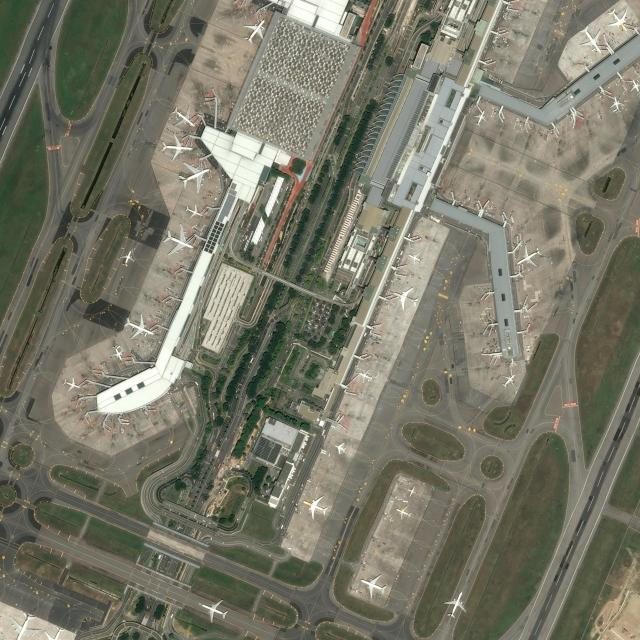1: (44, 624, 64, 640)
aircraft: (178, 162, 212, 193), (9, 611, 42, 640), (160, 132, 192, 160), (164, 223, 192, 254), (124, 314, 155, 338), (443, 589, 468, 618), (302, 494, 328, 520), (199, 599, 228, 622), (579, 25, 602, 53), (360, 574, 386, 598), (391, 288, 419, 310), (171, 104, 195, 128), (516, 244, 542, 266), (606, 7, 628, 31), (242, 18, 264, 42), (61, 376, 80, 391), (185, 204, 203, 218), (110, 344, 124, 362), (610, 96, 624, 112), (120, 250, 134, 266), (395, 505, 411, 519), (502, 373, 516, 388), (408, 251, 422, 265), (474, 110, 486, 126), (358, 370, 373, 382), (630, 78, 640, 95), (333, 443, 347, 454), (407, 486, 418, 496)
